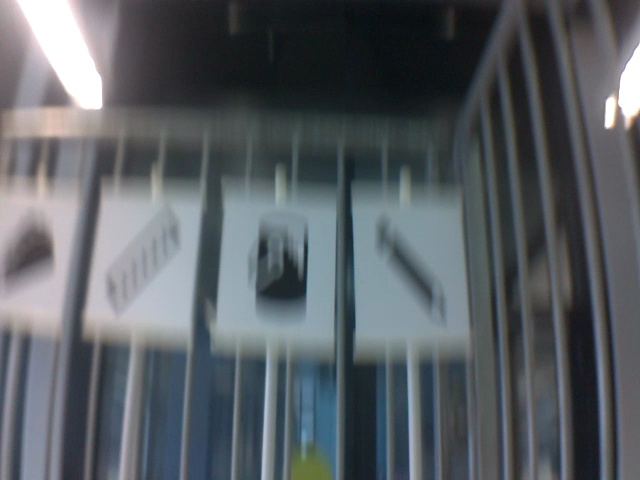bucket: (228, 209, 316, 312)
pencil: (370, 212, 452, 326)
ruler: (104, 203, 184, 318)
taco: (2, 201, 61, 292)
